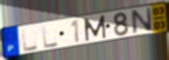1: (70, 19, 81, 44)
8: (112, 11, 131, 37)
L: (41, 24, 60, 50), (21, 27, 39, 54)
M: (83, 14, 108, 42)
N: (129, 6, 154, 36)
